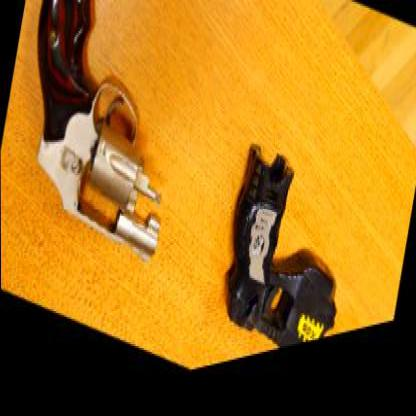pistol: (5, 0, 196, 301)
